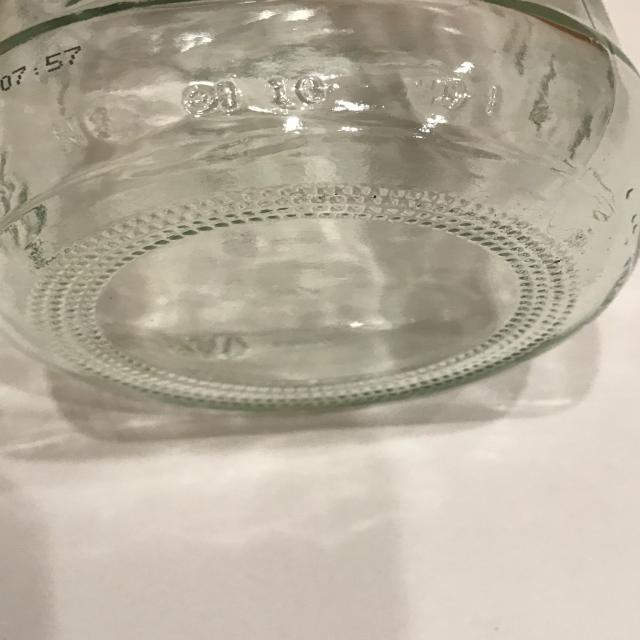glass: (1, 1, 640, 411)
